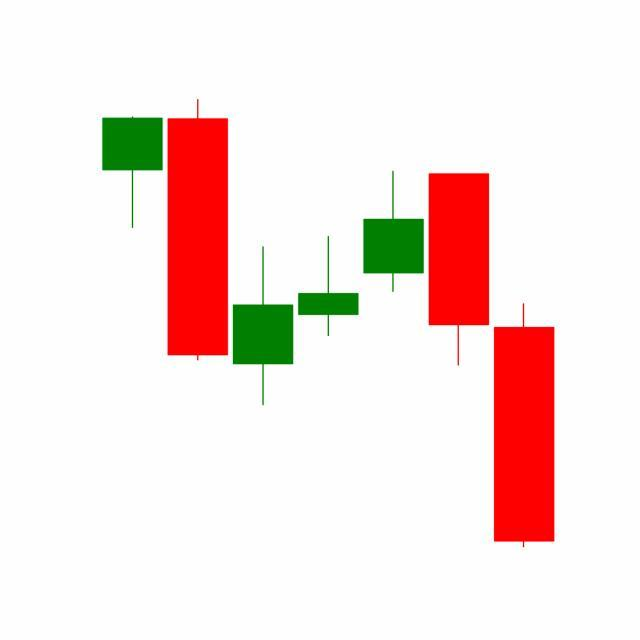Three Outside Up-Down: (360, 166, 556, 548)
